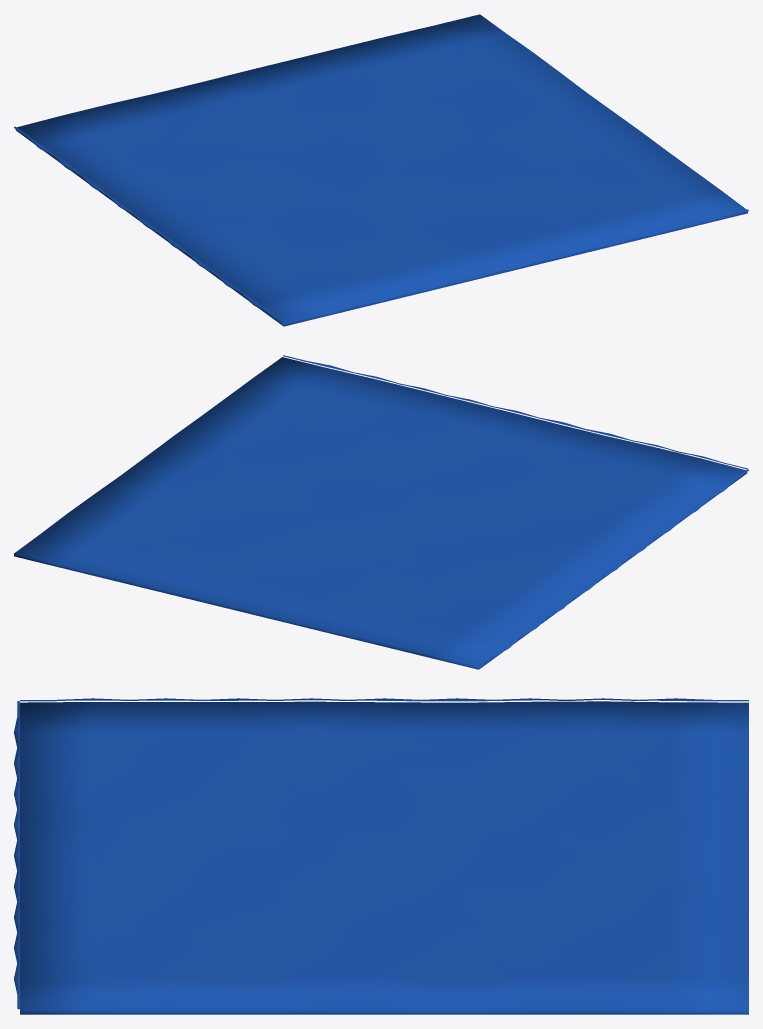
Rendered from Sheet_Base.fbx.
3 renders of one model, top to bottom at view 1: azimuth 30°, elevation 25°; view 2: azimuth 150°, elevation 25°; view 3: azimuth 270°, elevation 25°, orthographic. The views are drawn at different scales.
Visible parts, largest first — view 1: Sheet_Base; view 2: Sheet_Base; view 3: Sheet_Base.
Part boxes in pixels (x1=…): Sheet_Base: x1=14, y1=14, x2=748, y2=326; Sheet_Base: x1=14, y1=355, x2=748, y2=669; Sheet_Base: x1=14, y1=698, x2=748, y2=1014.
Bounding box in the file's own units: 6.05 × 0.059 × 6.05.
